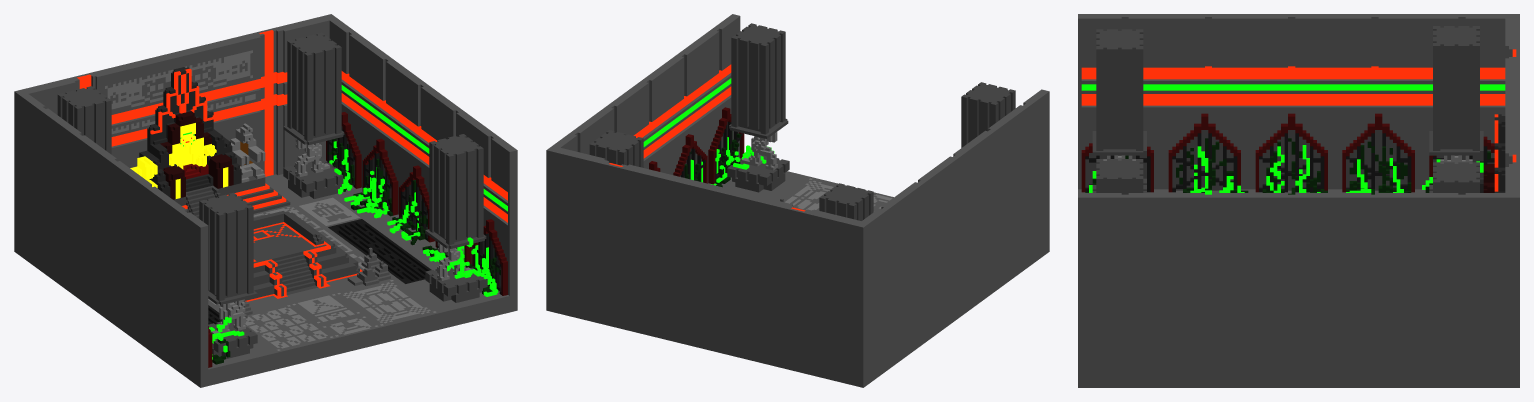
File: throne_room.glb
3 views of the same model, side by side, from view 1: azimuth 30°, elevation 25°; view 2: azimuth 150°, elevation 25°; view 3: azimuth 270°, elevation 25° (orthographic). The views are drawn at different scales.
Parts seen in each view (by area): view 1: Object_2; view 2: Object_2; view 3: Object_2.
Boxes of the visible parts, left/top/right/bottom form: Object_2: left=14, top=14, right=517, bottom=387; Object_2: left=546, top=14, right=1049, bottom=387; Object_2: left=1078, top=14, right=1519, bottom=387.
Bounding box in the file's own units: 12 × 5.9 × 12.2.
Materials: 1 (1 with a texture image).
